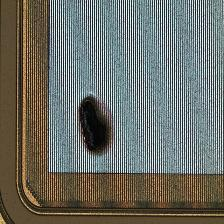PARTICLE: (75, 92, 118, 160)
